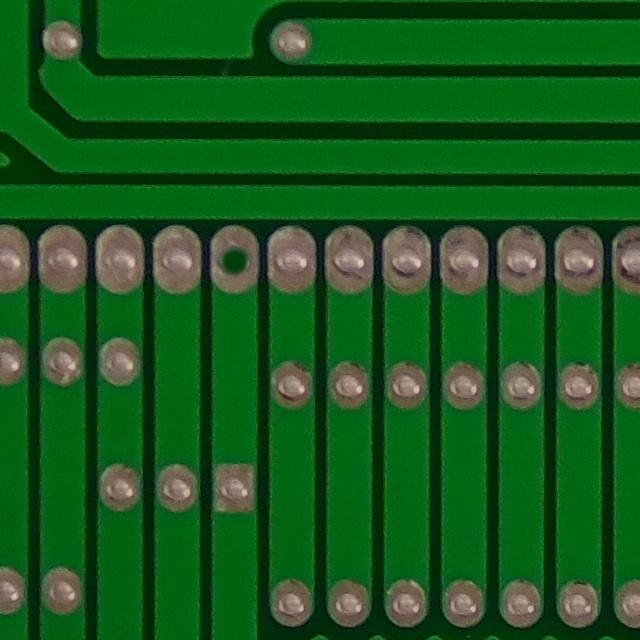missing_hole: (199, 215, 271, 301)
